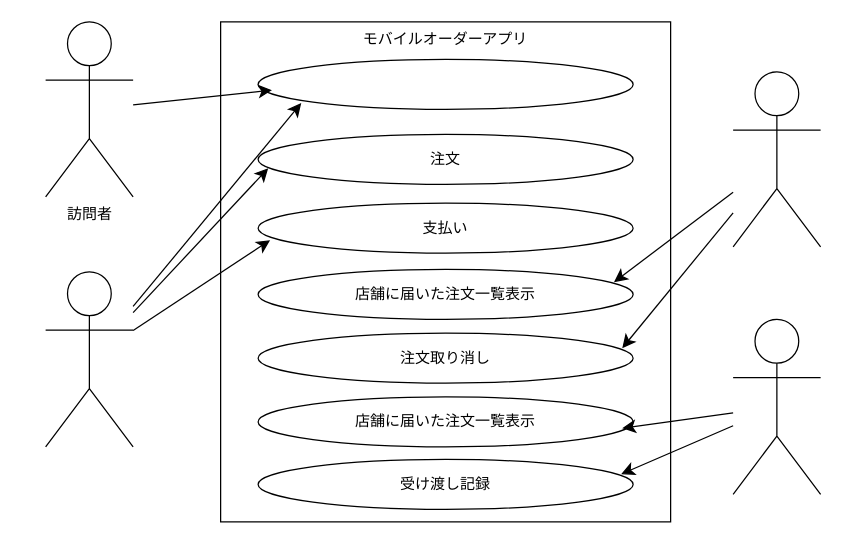
This 865x544 diagram has some shape labels left out. Here are the shapes that lost their labels. From the top down, the centre of each, then its label:
At point (445, 83): "注文可能なメニュー一覧表示".
At point (776, 159): "ログイン済み注文者".
At point (88, 359): "ログイン済み利用者".
At point (776, 406): "店員".
